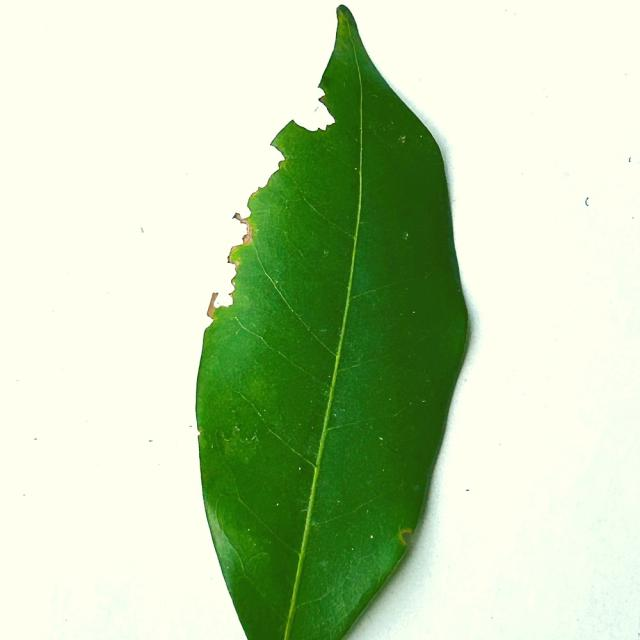Deficiency Leaf: (207, 131, 282, 239), (291, 85, 333, 131), (207, 292, 221, 319), (227, 246, 237, 271), (230, 277, 234, 286), (230, 289, 233, 296)
Lychee: (196, 6, 468, 639)
